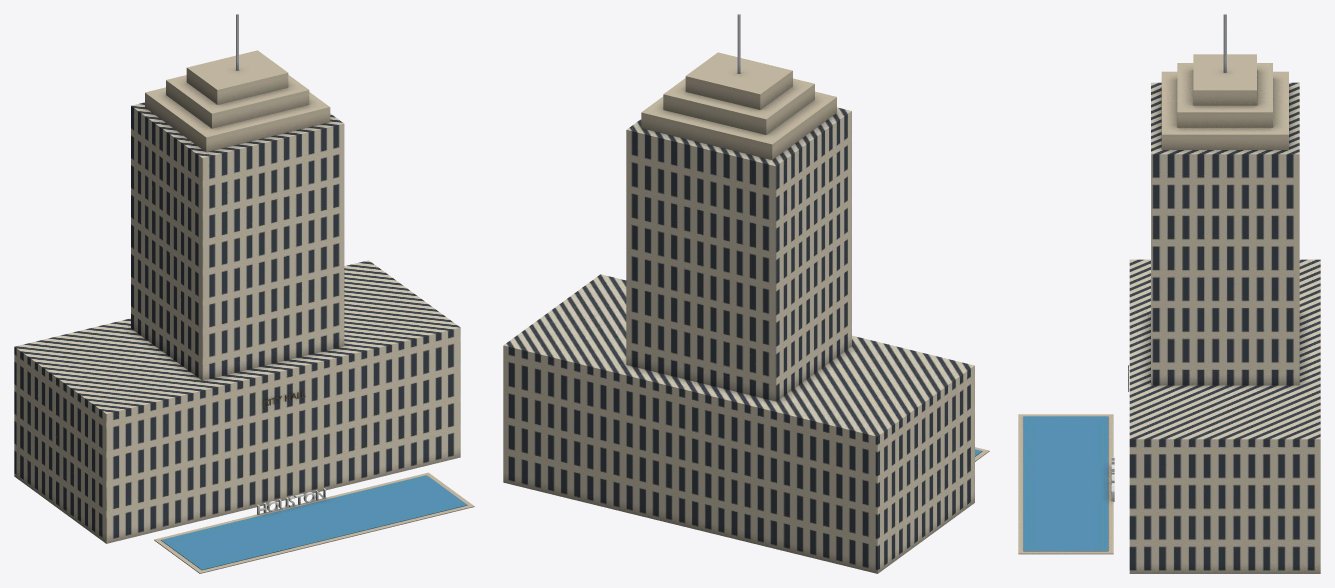
Rendered from city_hall_hou.glb.
3 renders of one model, left to right at view 1: azimuth 30°, elevation 25°; view 2: azimuth 150°, elevation 25°; view 3: azimuth 270°, elevation 25°, orthographic. The views are drawn at different scales.
Parts seen in each view (by area): view 1: city_hall_hou; view 2: city_hall_hou; view 3: city_hall_hou.
Boxes of the visible parts, x1,y1,x2,y2 form: city_hall_hou: (14, 14, 474, 573); city_hall_hou: (503, 14, 989, 573); city_hall_hou: (1018, 14, 1320, 573).
Bounding box in the file's own units: 40 × 48.89 × 28.5.
1 material, 1 textured.
